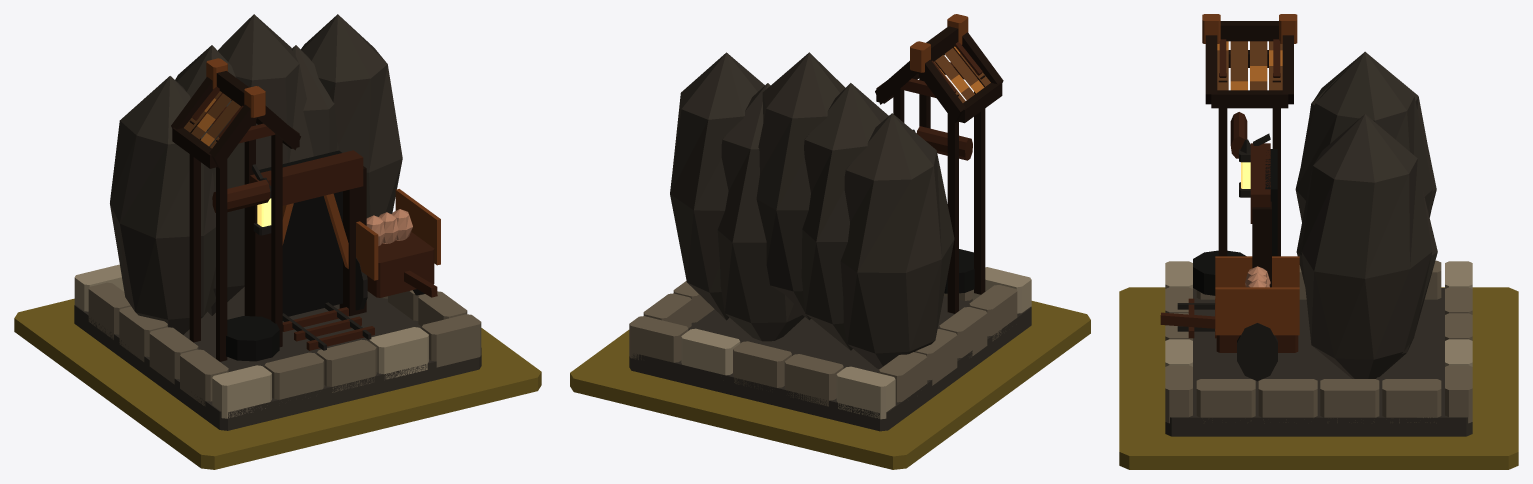
Rendered from deephole_t4.glb.
3 renders of one model, left to right at view 1: azimuth 30°, elevation 25°; view 2: azimuth 150°, elevation 25°; view 3: azimuth 270°, elevation 25°, orthographic. The views are drawn at different scales.
Parts seen in each view (by area): view 1: MMR | deephole | T04 Architecture.001, MMR | deephole | Tier 04 Ground.001; view 2: MMR | deephole | T04 Architecture.001, MMR | deephole | Tier 04 Ground.001; view 3: MMR | deephole | T04 Architecture.001, MMR | deephole | Tier 04 Ground.001.
Boxes of the visible parts, x1,y1,x2,y2 form: MMR | deephole | T04 Architecture.001: [74, 14, 481, 430]; MMR | deephole | Tier 04 Ground.001: [14, 298, 541, 469]; MMR | deephole | T04 Architecture.001: [629, 14, 1031, 431]; MMR | deephole | Tier 04 Ground.001: [570, 301, 1090, 469]; MMR | deephole | T04 Architecture.001: [1160, 14, 1472, 436]; MMR | deephole | Tier 04 Ground.001: [1119, 287, 1518, 469].
Bounding box in the file's own units: 1.3 × 1.2 × 1.3.
Materials: 2 (1 with a texture image).
